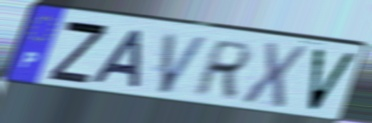A: (89, 27, 147, 91)
R: (189, 38, 257, 100)
V: (306, 46, 361, 116), (156, 30, 213, 96)
X: (238, 39, 309, 110)
Z: (46, 18, 111, 86)
